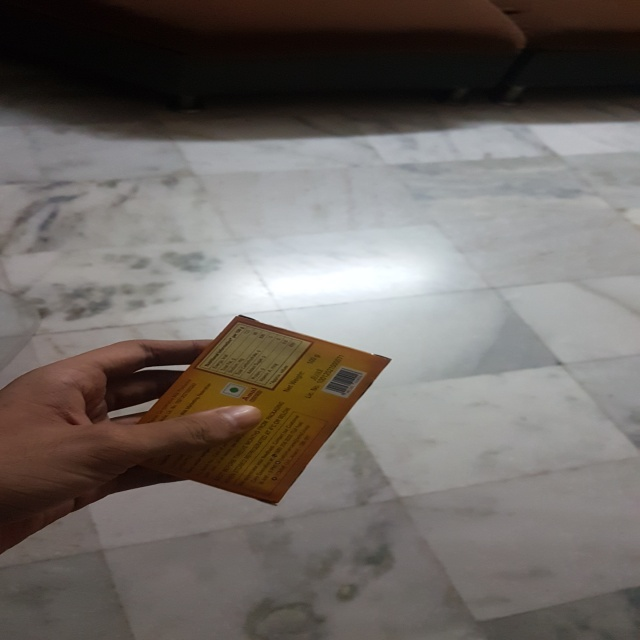butter: (128, 314, 392, 506)
